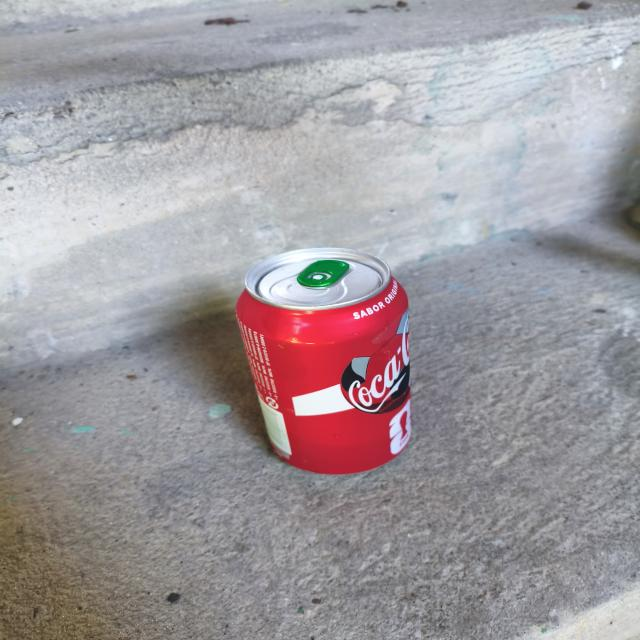Coca Cola: (225, 231, 444, 491)
